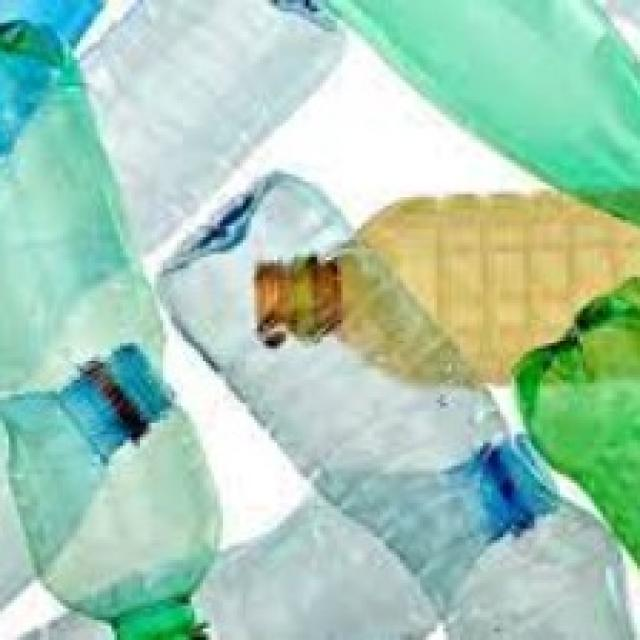plastic_bottle: (256, 200, 640, 396), (231, 428, 560, 640), (1, 8, 148, 392), (347, 1, 640, 186), (102, 1, 342, 186), (10, 329, 172, 571)
